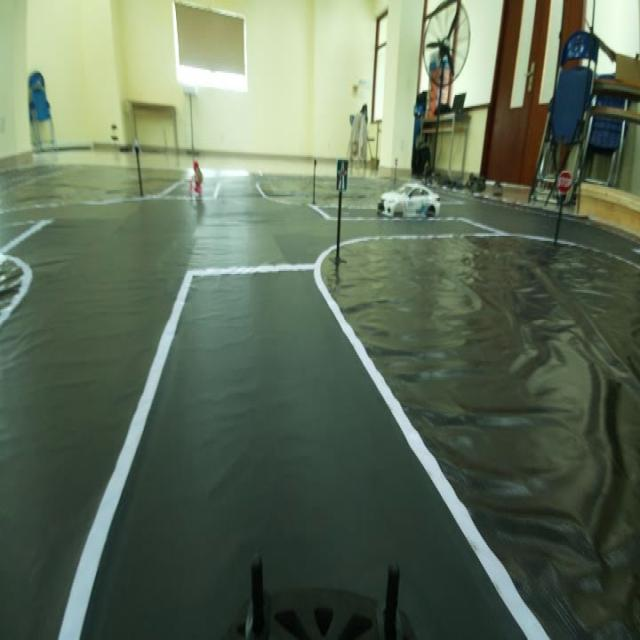highway_exit: (331, 158, 351, 192)
